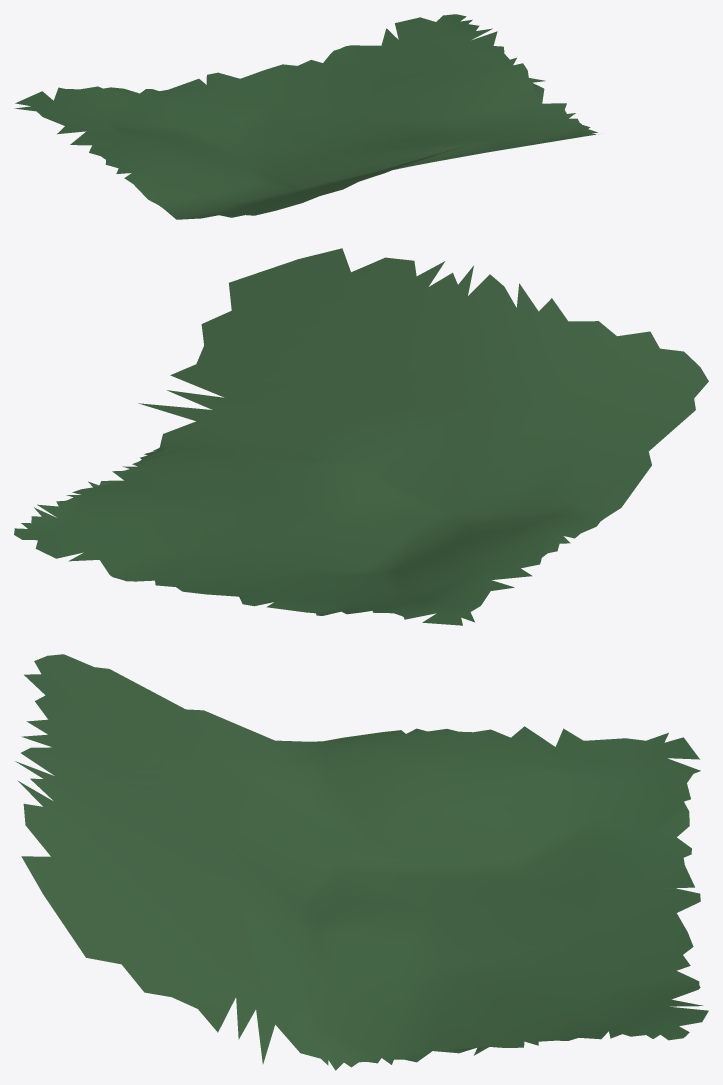
File: payo_land_x1_y9_lod2.glb
3 renders of one model, top to bottom at view 1: azimuth 30°, elevation 25°; view 2: azimuth 150°, elevation 25°; view 3: azimuth 270°, elevation 25°, orthographic. The views are drawn at different scales.
Parts seen in each view (by area): view 1: payo_land_x1_y9; view 2: payo_land_x1_y9; view 3: payo_land_x1_y9.
Part boxes in pixels (<box>): payo_land_x1_y9: <box>14,14,597,219</box>; payo_land_x1_y9: <box>14,248,708,625</box>; payo_land_x1_y9: <box>15,654,708,1070</box>.
Bounding box in the file's own units: 286 × 79.82 × 273.
